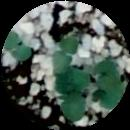Basil: (62, 86, 88, 120), (5, 29, 34, 59), (101, 77, 128, 109), (56, 38, 80, 73), (99, 62, 125, 88), (55, 71, 90, 88)
